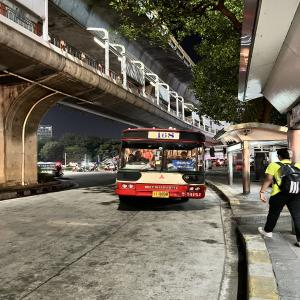BMTA-bus: (115, 128, 206, 203)
Bus Line Number: (155, 132, 176, 140)
Bus Side Number: (180, 192, 202, 198)
Destination Sign: (171, 160, 195, 171)
